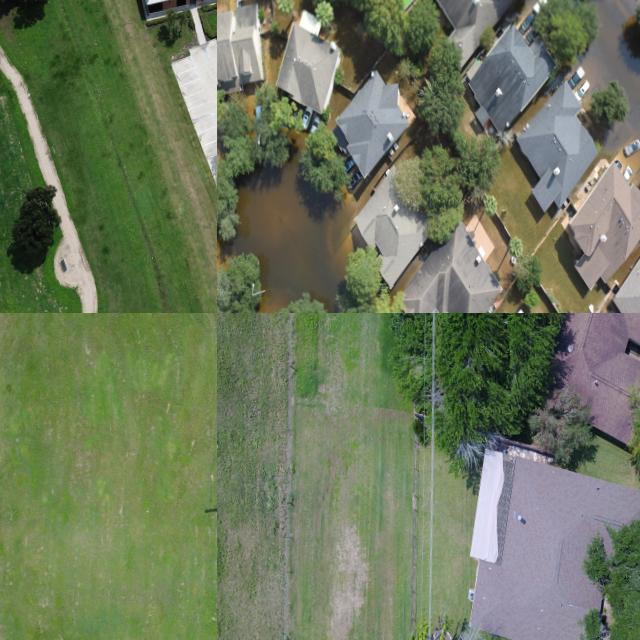fire: (223, 133, 363, 313), (583, 0, 640, 152)
